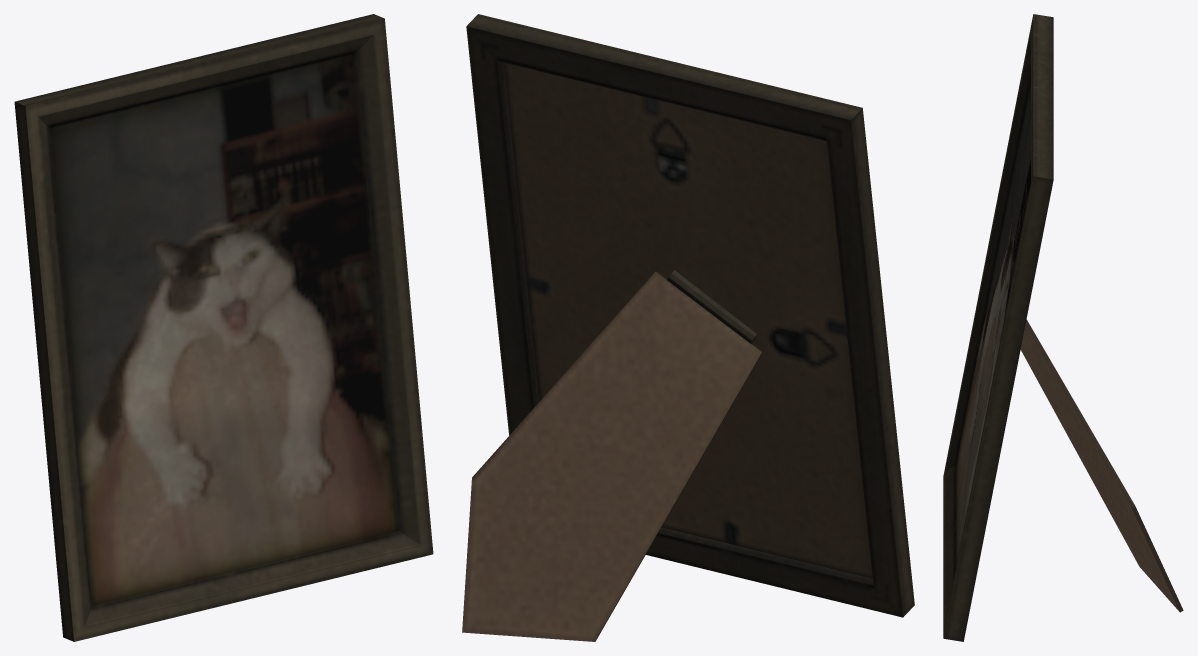
The model's file is photo_frame_mp_1.fbx.
3 renders of one model, left to right at view 1: azimuth 30°, elevation 25°; view 2: azimuth 150°, elevation 25°; view 3: azimuth 270°, elevation 25°, orthographic. The views are drawn at different scales.
Visible parts, largest first — view 1: photo_frame_mp_1; view 2: photo_frame_mp_1; view 3: photo_frame_mp_1.
Boxes of the visible parts, bbox=[...] form: photo_frame_mp_1: bbox=[14, 14, 433, 641]; photo_frame_mp_1: bbox=[462, 14, 914, 641]; photo_frame_mp_1: bbox=[943, 14, 1183, 641].
Size of the model in its own units: 0.1851 by 0.2479 by 0.1159.
1 material, 1 textured.
